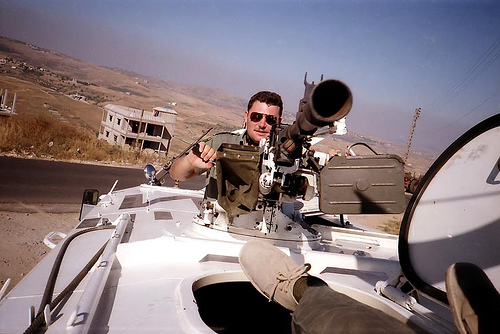rifle: (280, 74, 359, 180)
rifle in hand: (172, 88, 366, 183)
